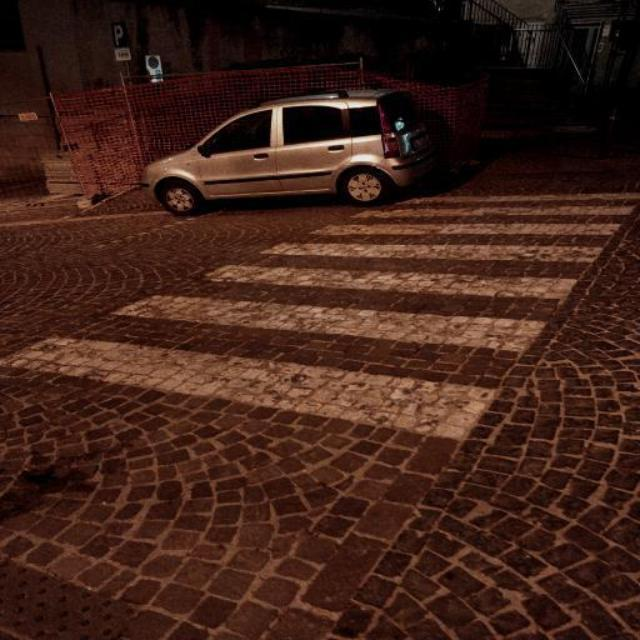sidewalk: (0, 191, 637, 438)
